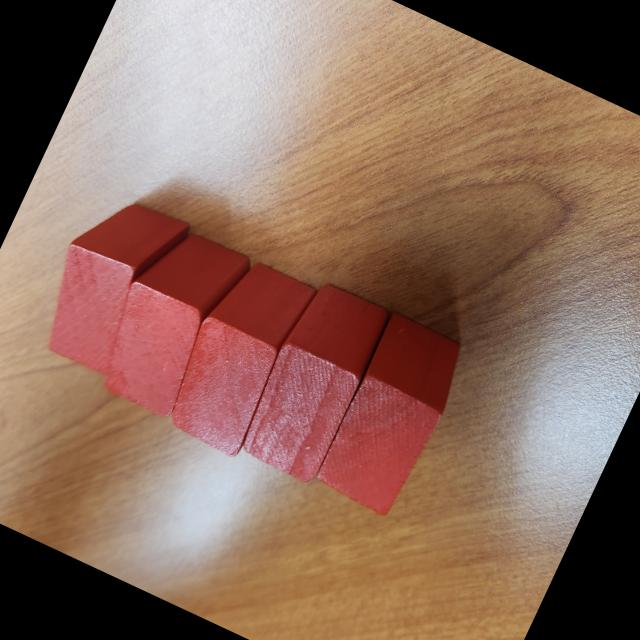red: (85, 217, 255, 426), (310, 310, 474, 523), (155, 250, 320, 461), (24, 181, 194, 385), (233, 274, 394, 486)
